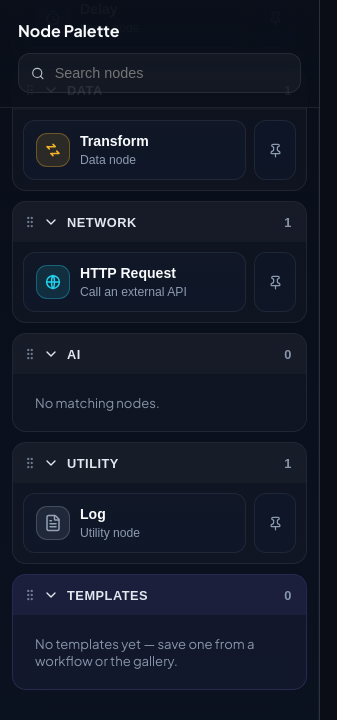
Test case: SidebarPalette › toggles a node pin directly from the palette item action
(page scrolled)
Click the button with test id "palette-pin-log".
click(275, 523)  # box [254, 493, 296, 553]
(page scrolled)
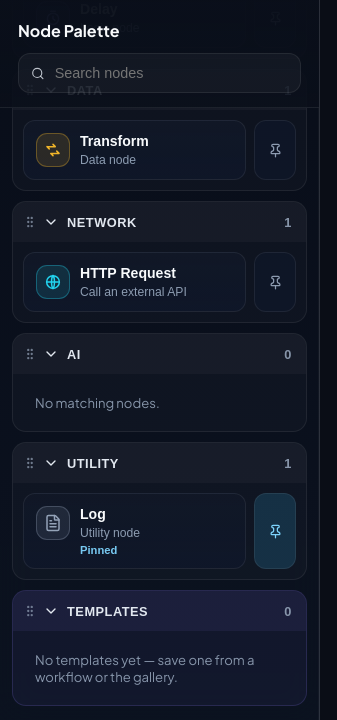
Expected: the number of fields labelled "Unpin Log" is 2
